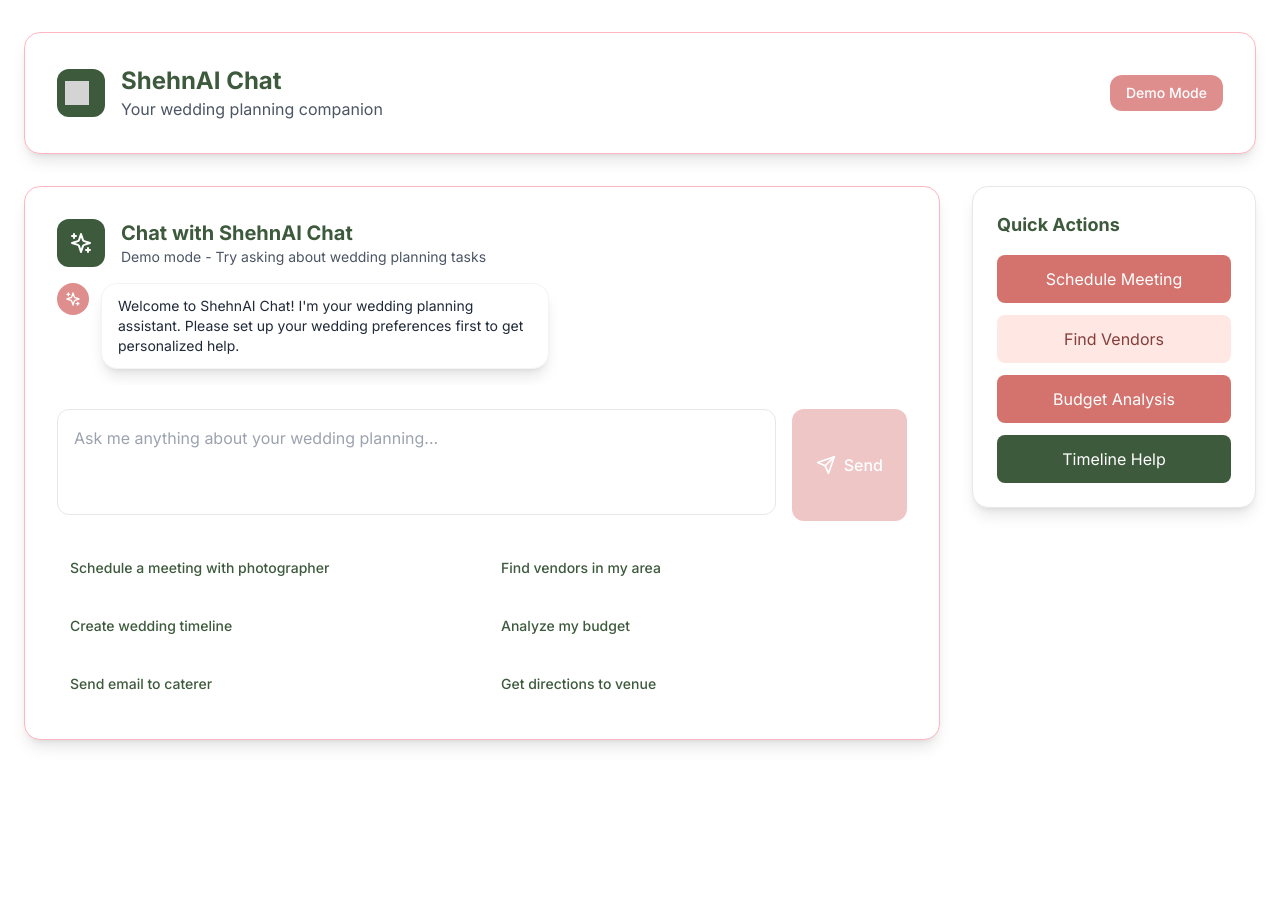
Test case: AIChat Screen › Quick Action Sidebar Buttons › "Schedule Meeting" fills input with scheduling text
Click the button "Schedule Meeting": x=1114, y=279 [997,255,1231,303]
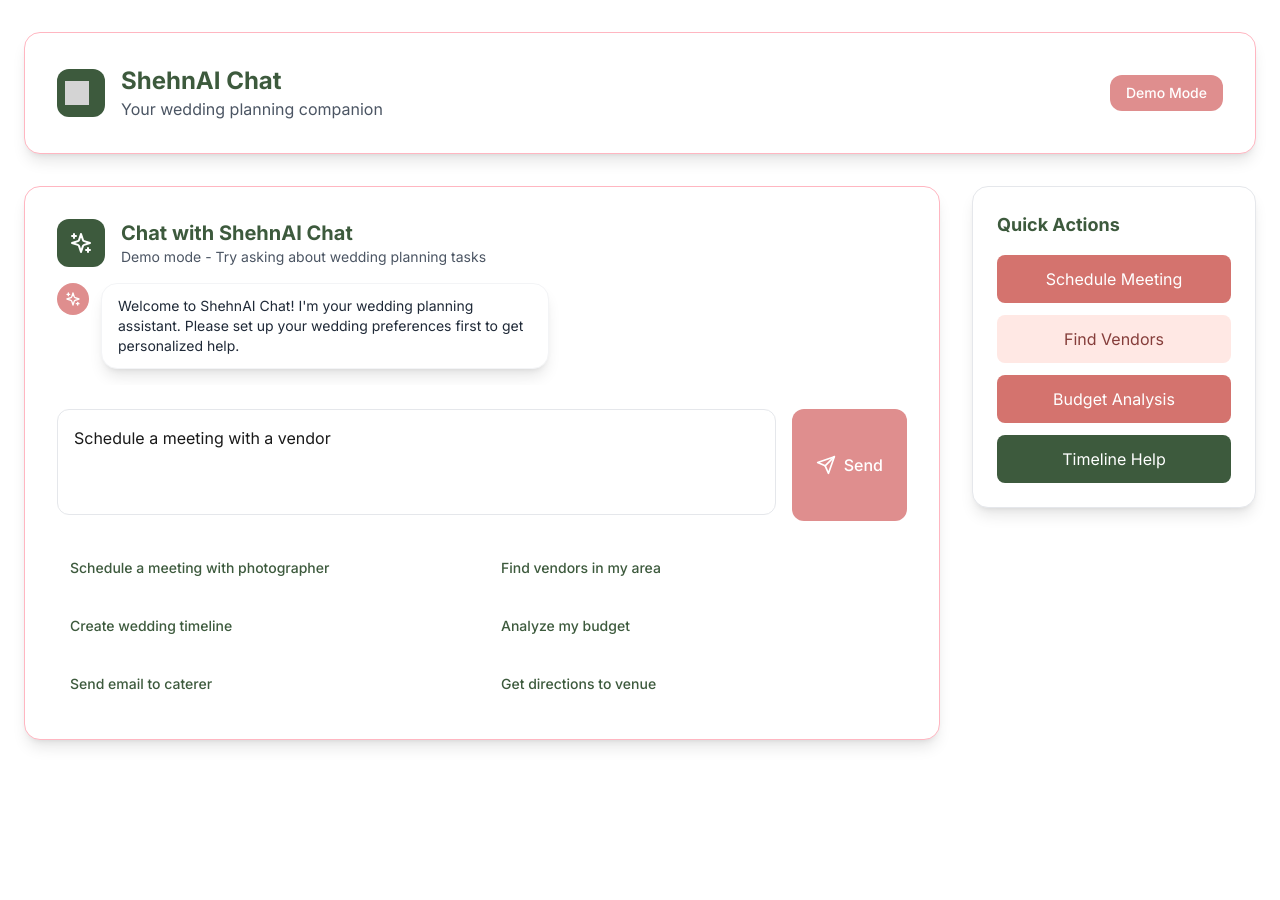
Now the text box with placeholder "Ask me anything about your wedding planning..." holds "Schedule a meeting with a vendor", box [57,409,776,515]
